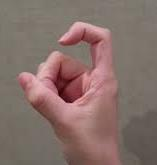anticlockwise: (16, 19, 121, 139)
